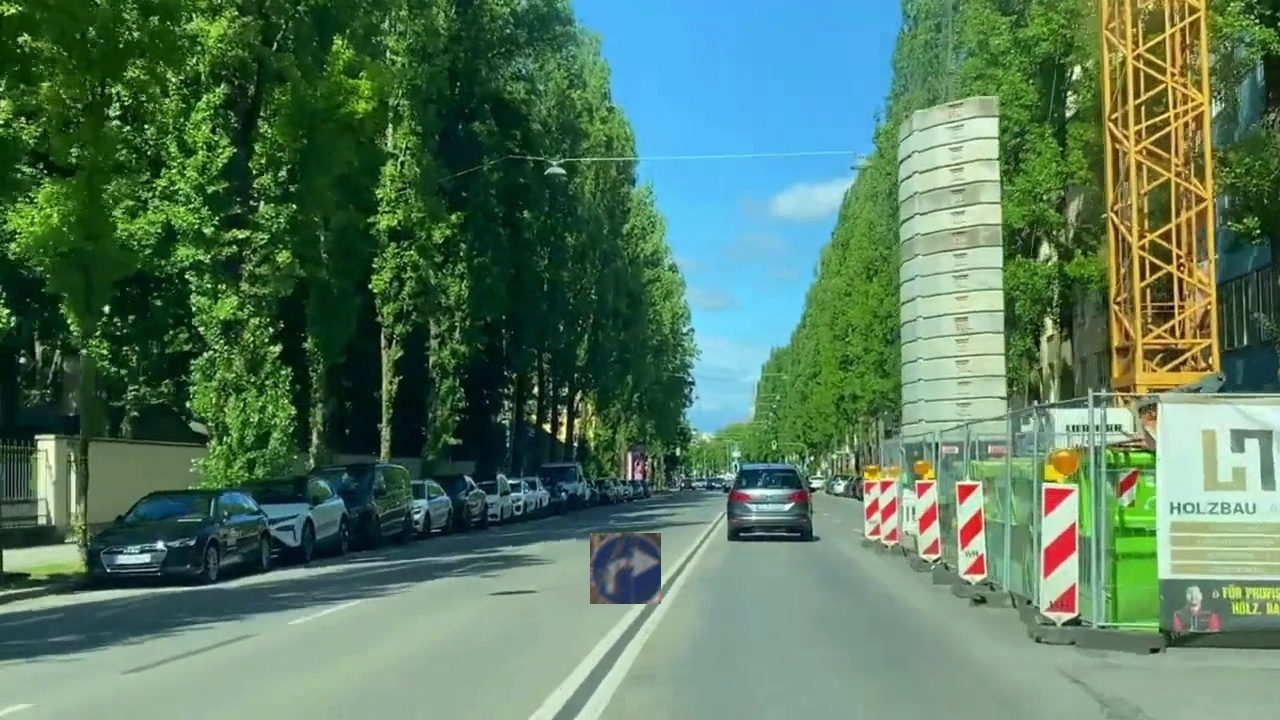Turn right: (590, 533, 661, 604)
